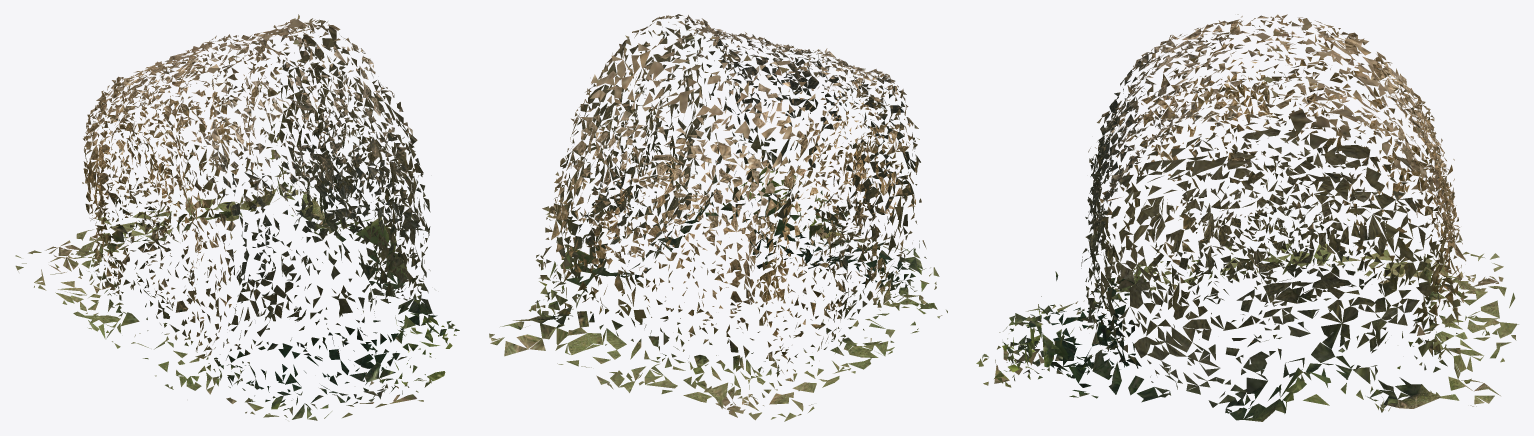
File: straw_bale.glb
3 views of the same model, side by side, from view 1: azimuth 30°, elevation 25°; view 2: azimuth 150°, elevation 25°; view 3: azimuth 270°, elevation 25° (orthographic). The views are drawn at different scales.
Parts seen in each view (by area): view 1: Stereo textured mesh_Material0_0, Stereo textured mesh_Material0_0.001, Stereo textured mesh_Material0_0.002, Stereo textured mesh_Material0_0.003, Stereo textured mesh_Material0_0.004, Stereo textured mesh_Material0_0.005, Stereo textured mesh_Material0_0.006, Stereo textured mesh_Material0_0.007; view 2: Stereo textured mesh_Material0_0, Stereo textured mesh_Material0_0.001, Stereo textured mesh_Material0_0.002, Stereo textured mesh_Material0_0.003, Stereo textured mesh_Material0_0.004, Stereo textured mesh_Material0_0.005, Stereo textured mesh_Material0_0.007, Stereo textured mesh_Material0_0.006; view 3: Stereo textured mesh_Material0_0, Stereo textured mesh_Material0_0.001, Stereo textured mesh_Material0_0.002, Stereo textured mesh_Material0_0.004, Stereo textured mesh_Material0_0.003, Stereo textured mesh_Material0_0.005, Stereo textured mesh_Material0_0.006, Stereo textured mesh_Material0_0.007.
Part boxes in pixels (x1,y1,x2,y2): Stereo textured mesh_Material0_0: (34,25,437,394); Stereo textured mesh_Material0_0.001: (28,34,444,417); Stereo textured mesh_Material0_0.002: (55,23,445,403); Stereo textured mesh_Material0_0.003: (15,23,454,420); Stereo textured mesh_Material0_0.004: (34,18,456,418); Stereo textured mesh_Material0_0.005: (88,14,459,417); Stereo textured mesh_Material0_0.006: (88,38,453,406); Stereo textured mesh_Material0_0.007: (15,32,450,401); Stereo textured mesh_Material0_0: (504,15,937,411); Stereo textured mesh_Material0_0.001: (490,14,939,420); Stereo textured mesh_Material0_0.002: (545,15,947,405); Stereo textured mesh_Material0_0.003: (532,16,939,421); Stereo textured mesh_Material0_0.004: (529,29,931,412); Stereo textured mesh_Material0_0.005: (539,28,926,375); Stereo textured mesh_Material0_0.007: (489,32,917,419); Stereo textured mesh_Material0_0.006: (535,16,942,385); Stereo textured mesh_Material0_0: (1010,15,1506,408); Stereo textured mesh_Material0_0.001: (1025,16,1518,421); Stereo textured mesh_Material0_0.002: (994,14,1515,405); Stereo textured mesh_Material0_0.004: (996,22,1489,411); Stereo textured mesh_Material0_0.003: (982,20,1513,412); Stereo textured mesh_Material0_0.005: (983,19,1462,397); Stereo textured mesh_Material0_0.006: (976,16,1499,407); Stereo textured mesh_Material0_0.007: (983,14,1504,409).
Size of the model in its own units: 1.9 by 1.59 by 2.51.
1 material, 1 textured.
